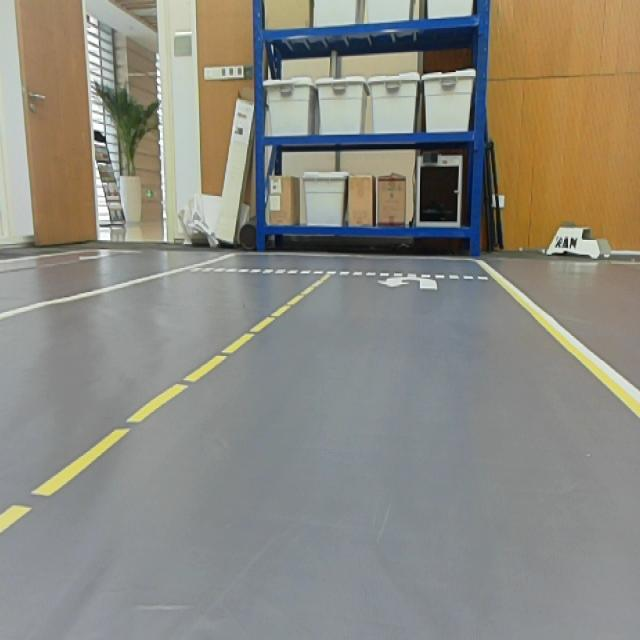left_lane: (0, 270, 339, 536)
right_lane: (477, 259, 640, 413), (0, 253, 233, 323)
